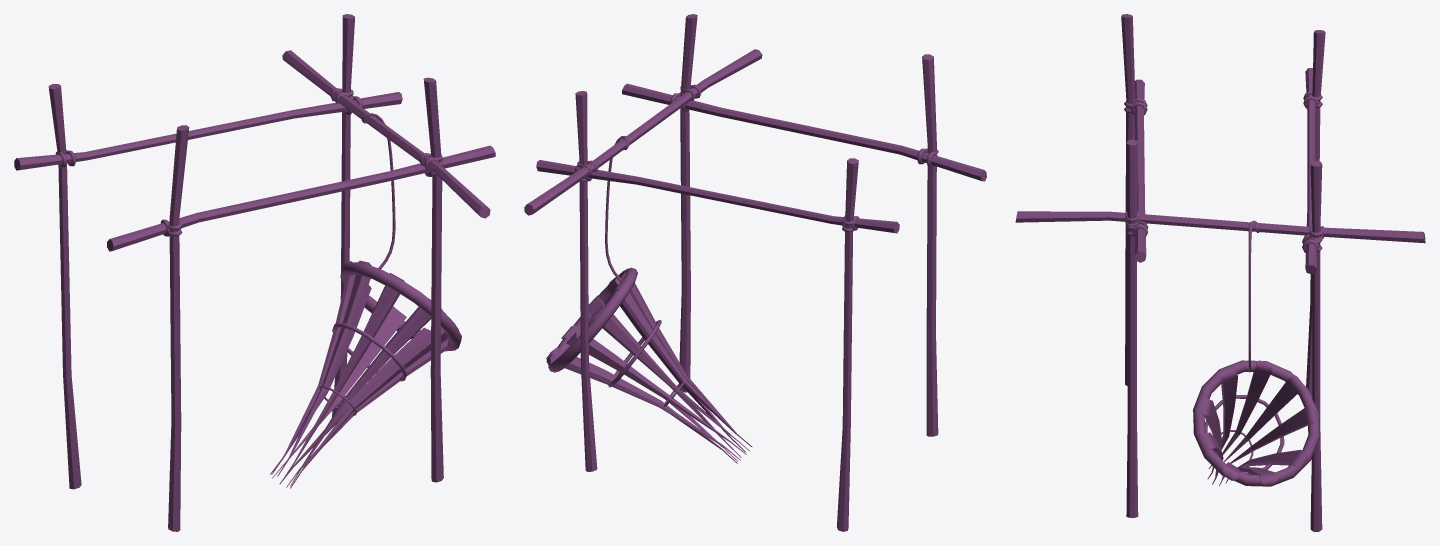
Rendered from Fishing_Scaffold.fbx.
The picture shows the model from 3 angles, left to right: view 1: azimuth 30°, elevation 25°; view 2: azimuth 150°, elevation 25°; view 3: azimuth 270°, elevation 25°; orthographic projection. The views are drawn at different scales.
Parts seen in each view (by area): view 1: Fishing_Net, Stick5, Stick3, Stick1, Stick4, Stick, Stick6, Stick2; view 2: Fishing_Net, Stick5, Stick1, Stick2, Stick4, Stick3, Stick, Stick6; view 3: Fishing_Net, Stick6, Stick3, Stick2, Stick5, Stick4, Stick1, Stick, Rope_Hanging.
Boxes of the visible parts, left/top/right/bottom form: Fishing_Net: left=270, top=260, right=461, bottom=488; Stick5: left=168, top=125, right=189, bottom=531; Stick3: left=423, top=77, right=443, bottom=482; Stick1: left=107, top=145, right=495, bottom=251; Stick4: left=48, top=84, right=81, bottom=489; Stick: left=14, top=92, right=402, bottom=170; Stick6: left=282, top=50, right=490, bottom=218; Stick2: left=332, top=14, right=355, bottom=416; Fishing_Net: left=546, top=267, right=752, bottom=463; Stick5: left=922, top=54, right=938, bottom=436; Stick1: left=622, top=83, right=986, bottom=181; Stick2: left=575, top=91, right=597, bottom=471; Stick4: left=837, top=158, right=858, bottom=531; Stick3: left=678, top=14, right=697, bottom=392; Stick: left=536, top=160, right=899, bottom=233; Stick6: left=524, top=49, right=762, bottom=215; Fishing_Net: left=1193, top=360, right=1319, bottom=486; Stick6: left=1015, top=211, right=1425, bottom=243; Stick3: left=1126, top=139, right=1138, bottom=517; Stick2: left=1310, top=160, right=1322, bottom=531; Stick5: left=1121, top=14, right=1135, bottom=385; Stick4: left=1306, top=30, right=1325, bottom=396; Stick1: left=1134, top=79, right=1146, bottom=262; Stick: left=1305, top=68, right=1316, bottom=274; Rope_Hanging: left=1248, top=220, right=1259, bottom=372.
Size of the model in its own units: 5.06 by 5.26 by 4.86.
